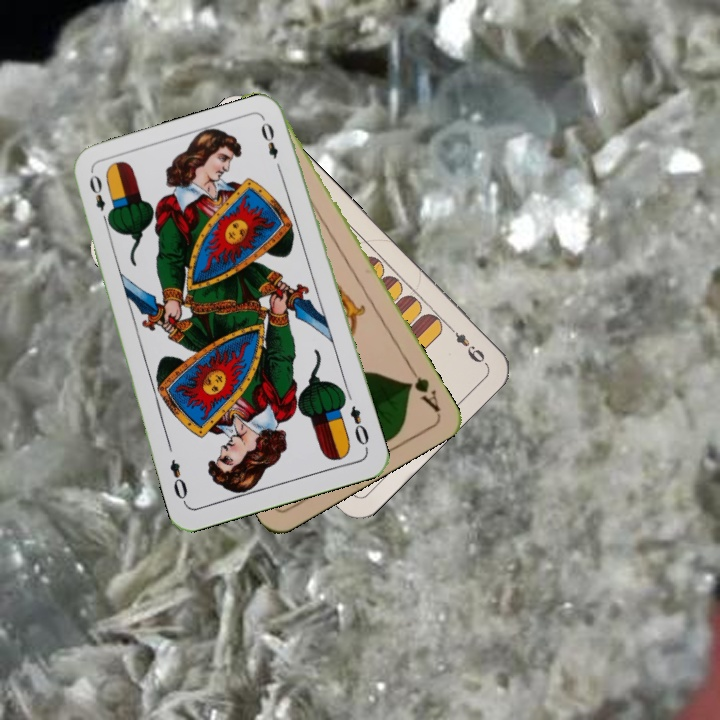E9: (443, 320, 488, 365)
EO: (85, 171, 114, 228), (346, 401, 372, 448)
GA: (403, 362, 443, 415)
